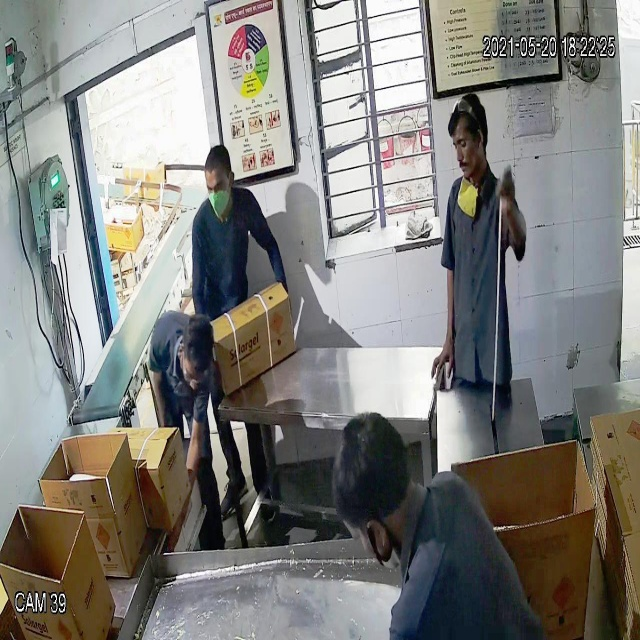Sin_gafas: (450, 129, 484, 162)
